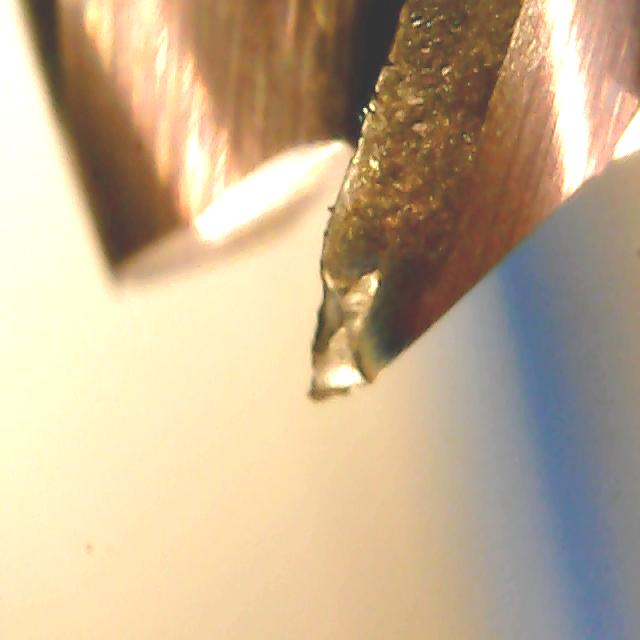Tool-wear-class-2: (295, 46, 485, 413)
